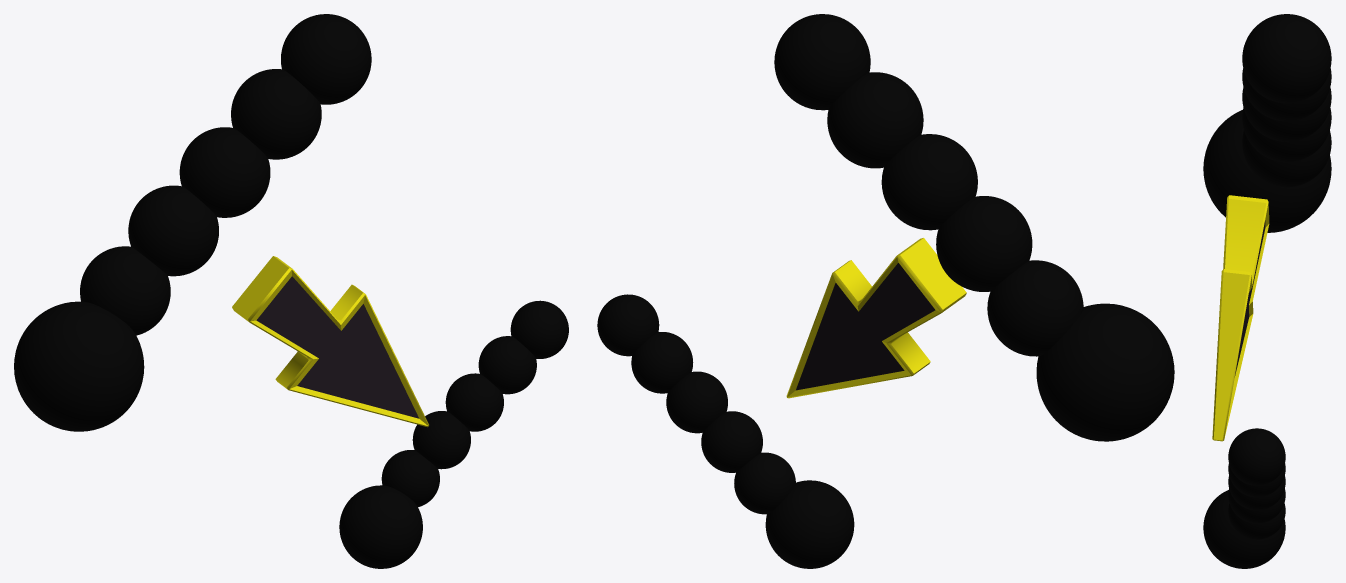
The model's file is SmallCreature.fbx.
3 renders of one model, left to right at view 1: azimuth 30°, elevation 25°; view 2: azimuth 150°, elevation 25°; view 3: azimuth 270°, elevation 25°, orthographic. The views are drawn at different scales.
Parts seen in each view (by area): view 1: root (×12), node_id38; view 2: root (×12), node_id38; view 3: root (×12), node_id38.
Part boxes in pixels (x1,y1,x2,y2): root (×12): [14, 14, 568, 568]; node_id38: [232, 256, 428, 427]; root (×12): [597, 14, 1174, 568]; node_id38: [786, 238, 966, 398]; root (×12): [1203, 14, 1331, 568]; node_id38: [1212, 195, 1269, 441].
Size of the model in its own units: 0.3523 by 0.338 by 0.074.
Materials: 13 (13 with a texture image).
